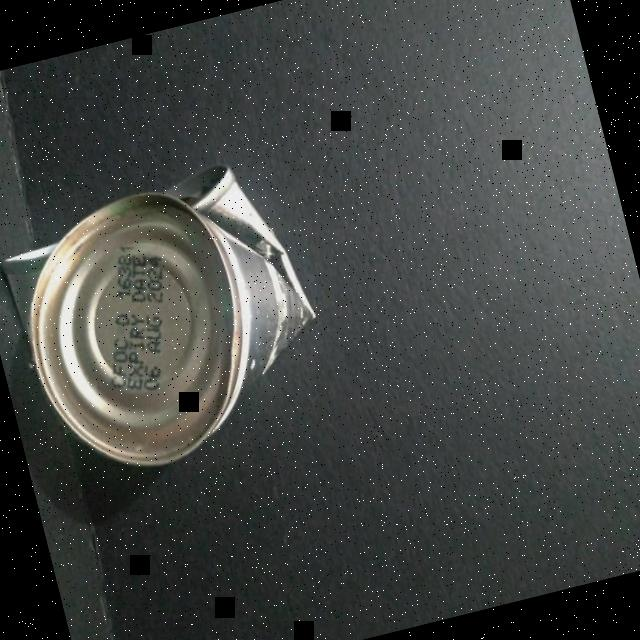can: (0, 146, 343, 491)
